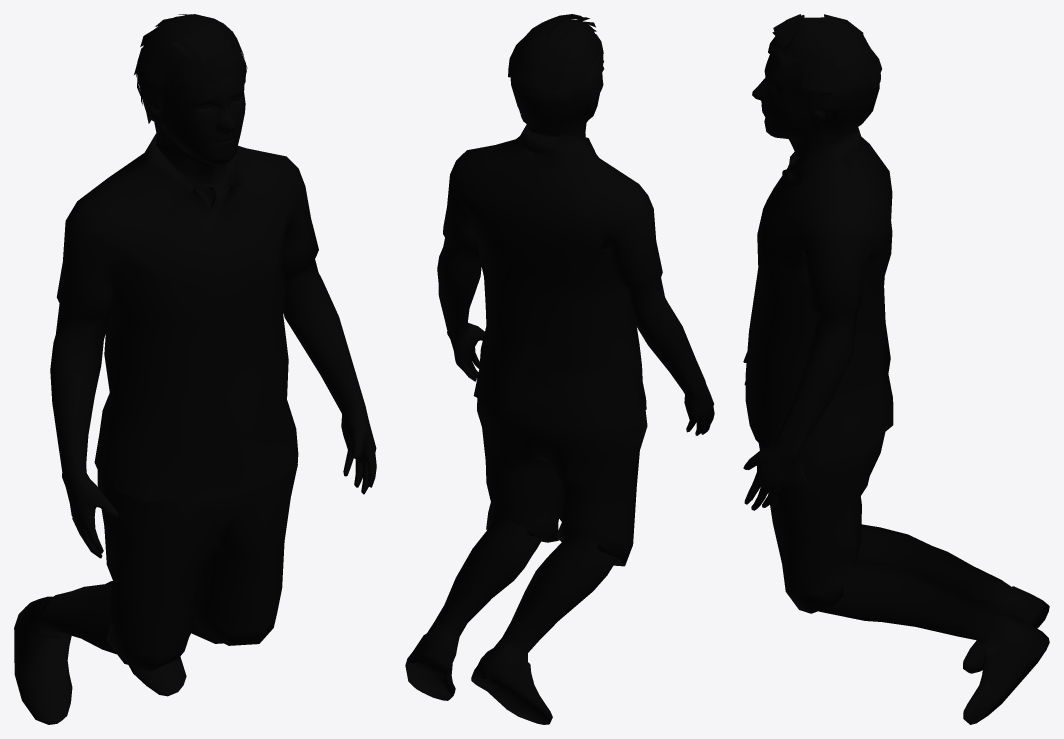
3 renders of one model, left to right at view 1: azimuth 30°, elevation 25°; view 2: azimuth 150°, elevation 25°; view 3: azimuth 270°, elevation 25°, orthographic. The views are drawn at different scales.
Visible parts, largest first — view 1: rocketbox-m-walking; view 2: rocketbox-m-walking; view 3: rocketbox-m-walking.
Boxes of the visible parts, x1,y1,x2,y2 form: rocketbox-m-walking: (14,14,376,724); rocketbox-m-walking: (405,14,714,724); rocketbox-m-walking: (743,14,1049,724).
Bounding box in the file's own units: 0.6341 × 1.54 × 0.6286.
1 material, 1 textured.
